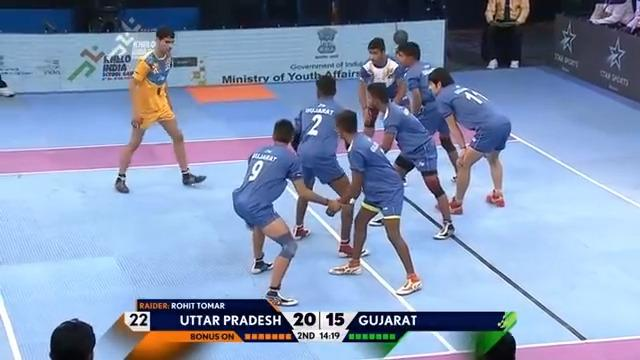Player: (231, 118, 340, 306), (327, 108, 423, 295), (362, 82, 455, 239), (290, 72, 369, 256), (427, 66, 512, 214), (393, 41, 459, 184), (357, 36, 407, 139)
Raider: (113, 26, 207, 193)
referee: (481, 0, 529, 69), (588, 0, 639, 34)
